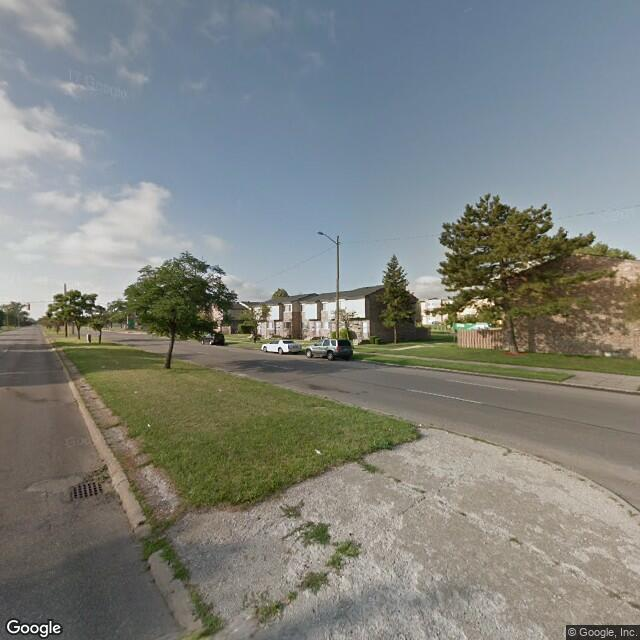litter: (313, 446, 322, 456), (146, 423, 155, 431), (419, 422, 422, 428)
